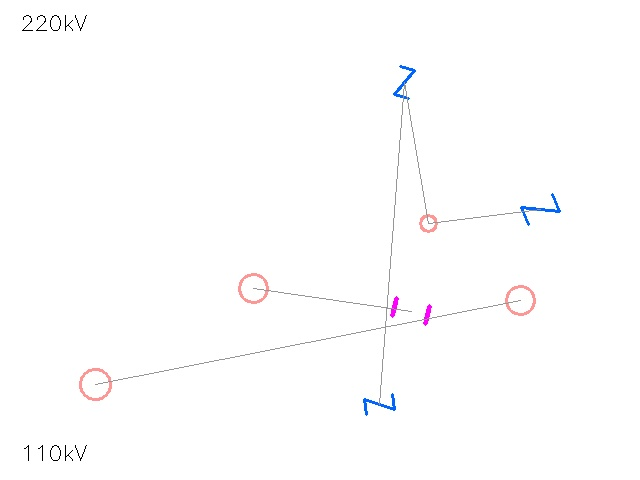capacitor: (382, 282, 440, 340)
circuit_breaker: (521, 190, 559, 228), (363, 388, 395, 420), (388, 66, 420, 98)
feeder_terminal: (492, 272, 548, 328), (411, 206, 445, 240)
load_break_switch: (224, 259, 282, 317)
voltage_transformer: (64, 353, 126, 415)
